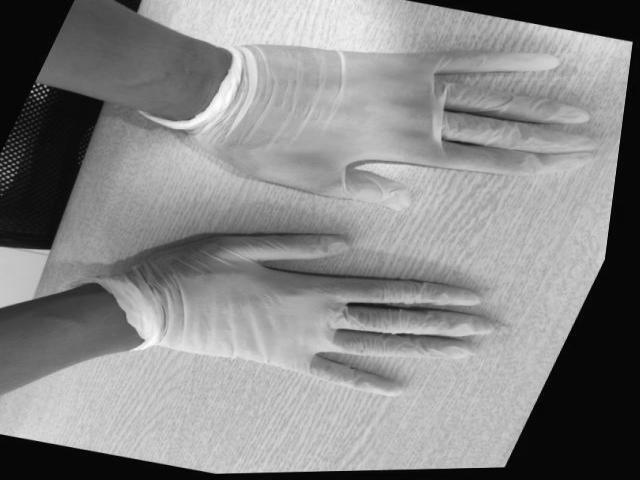gloved: (256, 43, 594, 206), (172, 230, 496, 397)
